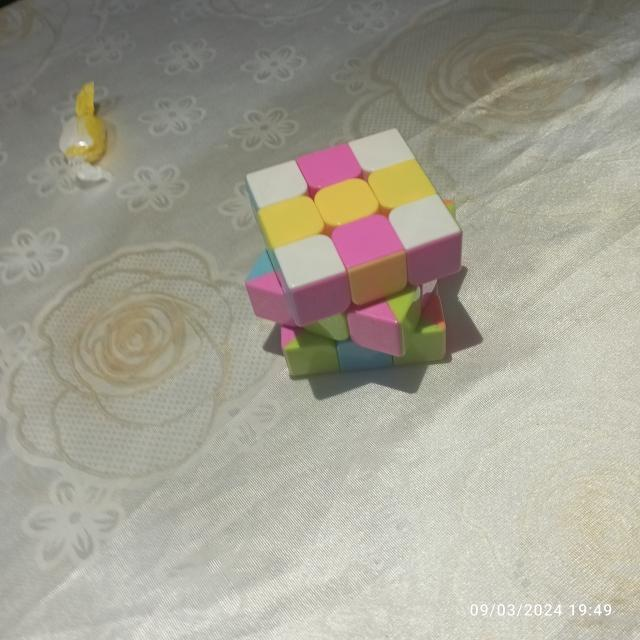Rub: (241, 121, 466, 381)
